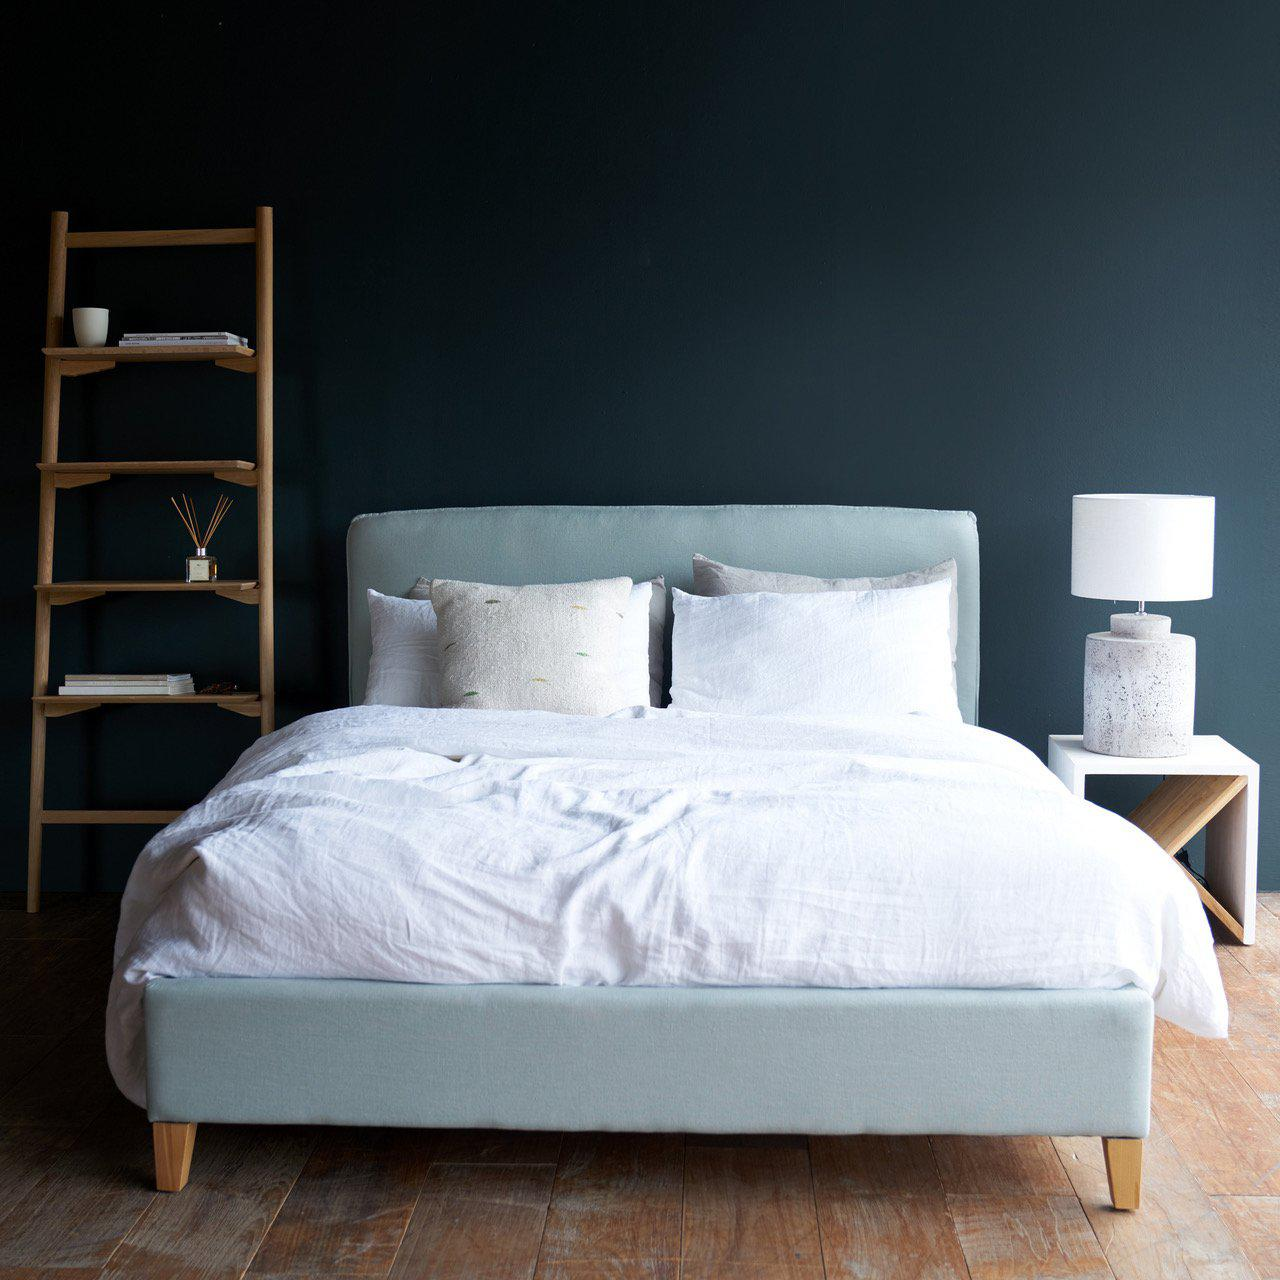bed: (77, 448, 1213, 1250)
